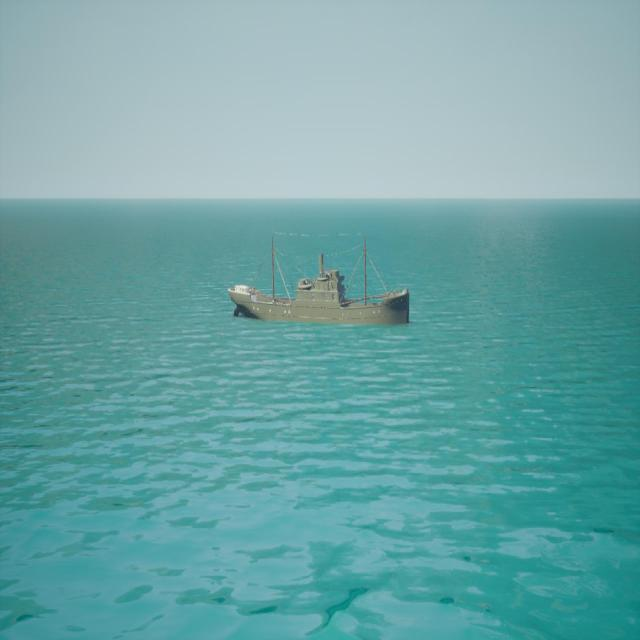fishing ship: (228, 234, 412, 326)
